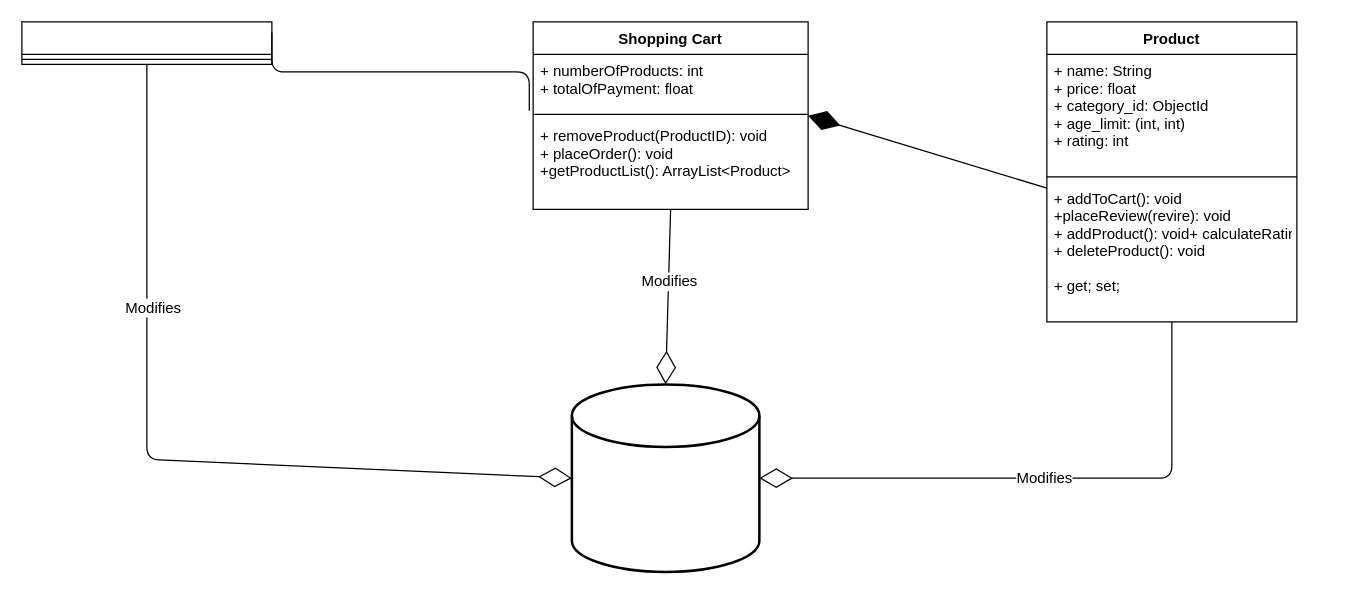
Image size: 1360x595. Some labels were removed from this diagram. Each missing label, with the centre of its shape:
"Database" goes at (x=665, y=477).
"User" goes at (x=146, y=42).
